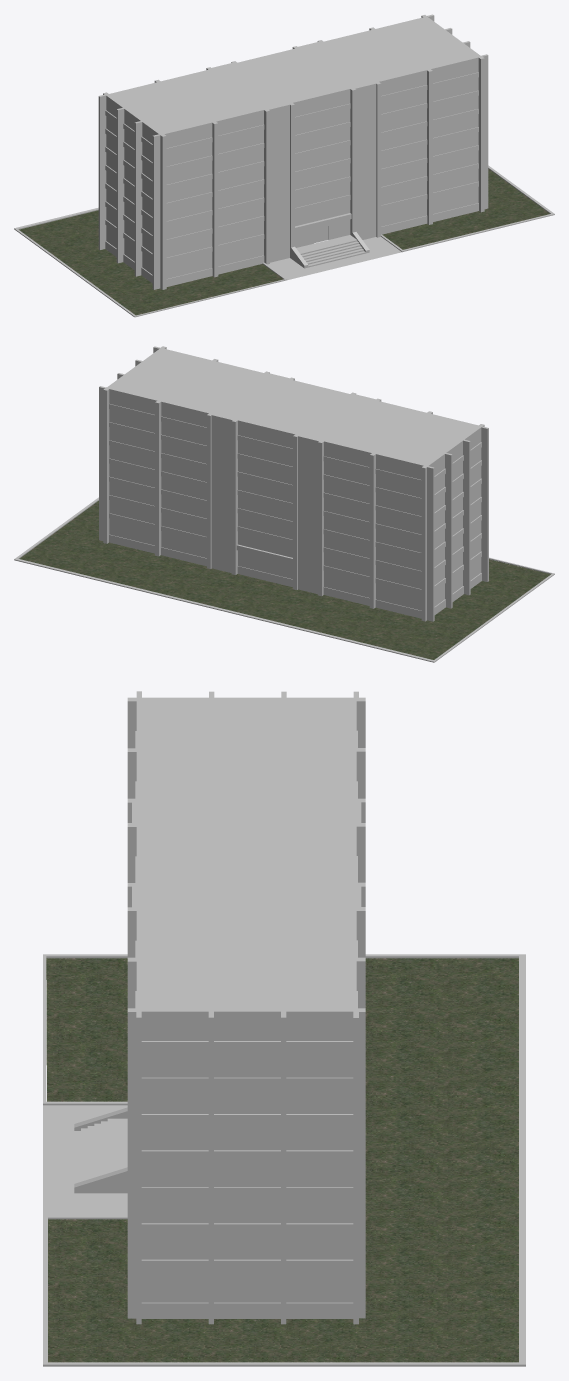
3 renders of one model, top to bottom at view 1: azimuth 30°, elevation 25°; view 2: azimuth 150°, elevation 25°; view 3: azimuth 270°, elevation 25°, orthographic. The views are drawn at different scales.
Parts seen in each view (by area): view 1: BB-027; view 2: BB-027; view 3: BB-027.
Boxes of the visible parts, x1,y1,x2,y2 form: BB-027: [14, 14, 554, 317]; BB-027: [14, 346, 554, 662]; BB-027: [43, 691, 525, 1366].
Size of what is drawn, in the model's own units: 7240 by 2524 by 3600.
